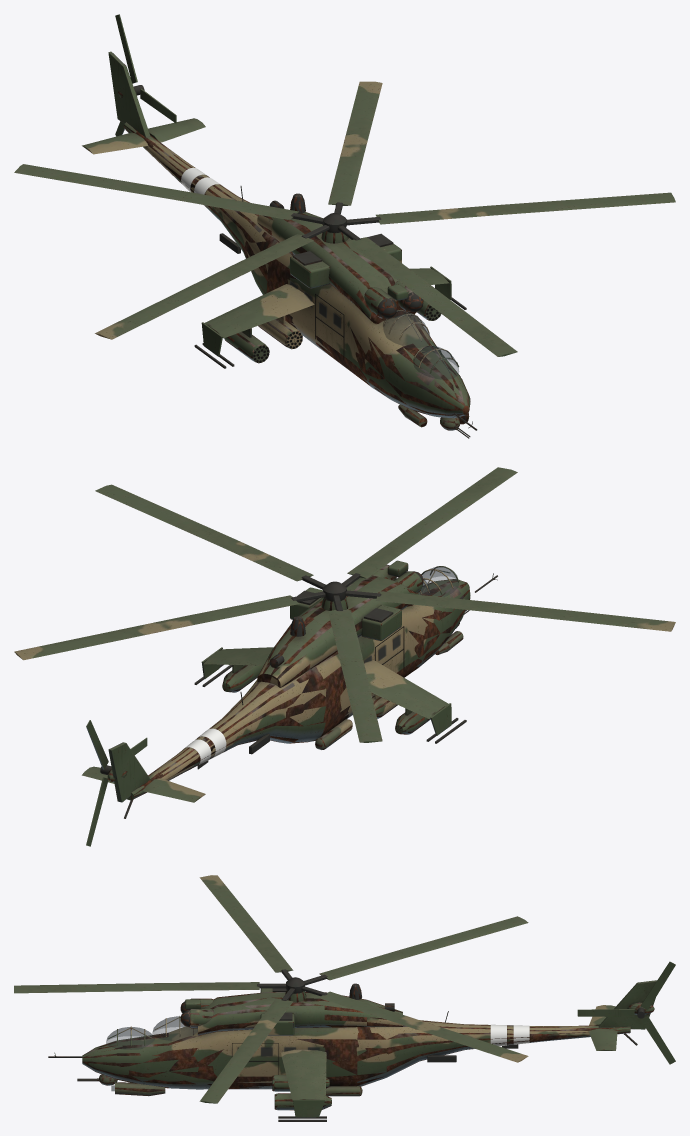
3 renders of one model, top to bottom at view 1: azimuth 30°, elevation 25°; view 2: azimuth 150°, elevation 25°; view 3: azimuth 270°, elevation 25°, orthographic. The views are drawn at different scales.
Parts seen in each view (by area): view 1: hull_geo, rotor_main_geo, hull_wreck, glass_geo, rotor_tail_geo; view 2: hull_geo, rotor_main_geo, hull_wreck, rotor_tail_geo, glass_geo; view 3: hull_geo, rotor_main_geo, hull_wreck, glass_geo, rotor_tail_geo.
Part boxes in pixels (box(x1,y1,x2,y2)): hull_geo: box(82, 51, 477, 438); rotor_main_geo: box(14, 81, 675, 356); hull_wreck: box(84, 64, 475, 430); glass_geo: box(383, 311, 458, 379); rotor_tail_geo: box(115, 14, 176, 136); hull_geo: box(82, 560, 497, 818); rotor_main_geo: box(14, 467, 675, 742); hull_wreck: box(107, 560, 496, 818); rotor_tail_geo: box(86, 720, 147, 846); glass_geo: box(418, 566, 458, 596); hull_geo: box(48, 980, 656, 1121); rotor_main_geo: box(14, 875, 528, 1103); hull_wreck: box(48, 983, 653, 1117); glass_geo: box(106, 1016, 197, 1049); rotor_tail_geo: box(577, 961, 675, 1064).
Size of what is drawn, in the model's own units: 16.63 by 4.5 by 20.34.
5 materials, 2 textured.
